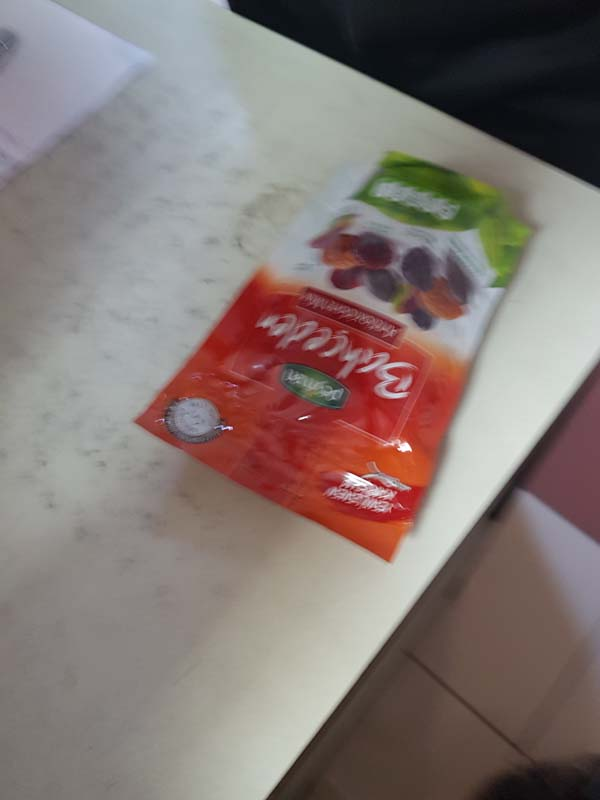bahcedenantioxidan: (136, 147, 543, 592)
